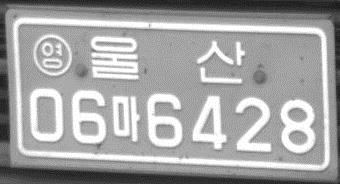0: (28, 87, 65, 143)
2: (233, 95, 274, 155)
4: (189, 93, 228, 151)
6: (69, 88, 107, 145), (146, 91, 183, 149)
8: (278, 97, 317, 155)
마: (110, 93, 141, 144)
영: (32, 32, 72, 77)
울산_D: (89, 34, 246, 85)
